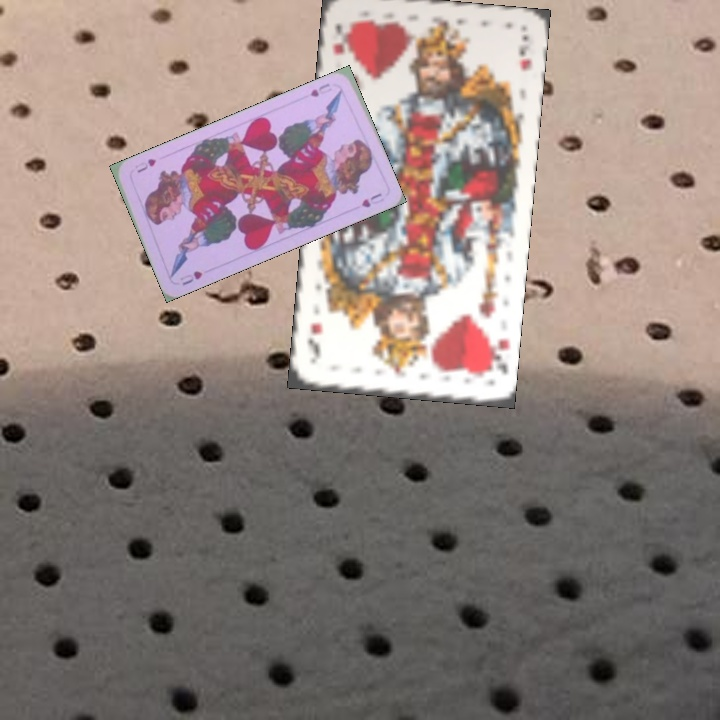HK: (482, 328, 512, 377), (328, 18, 354, 57)
HU: (176, 267, 205, 288), (306, 79, 335, 100)
